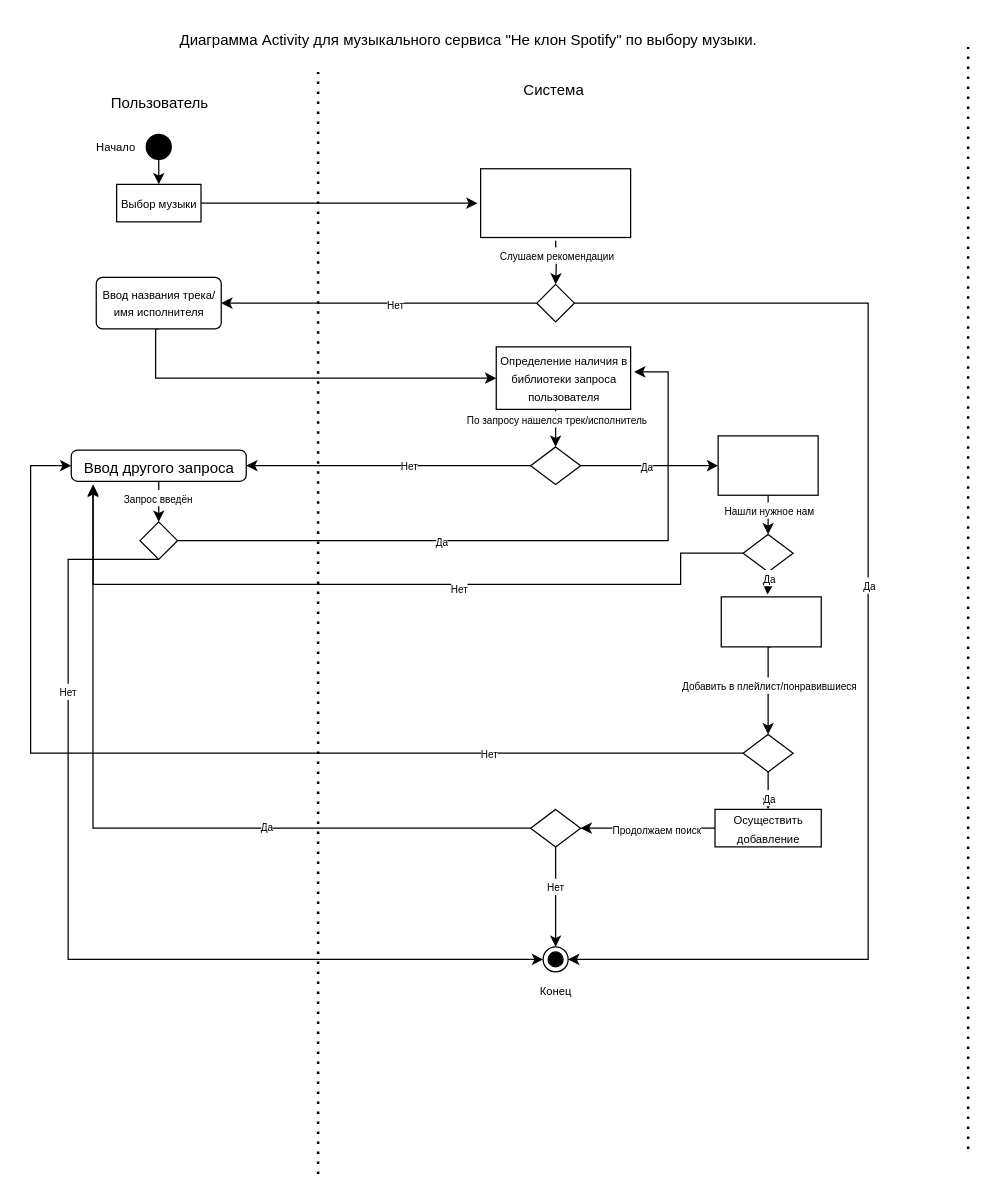
The diagram is 993 pixels wide and 1198 high, and some of its shapes have lost their labels. The centre of each missing label's shape, as x and y in pixels:
Вывод треков/исполнителей пользователю: [767,465]
Предоставление рекомендаций/ поиска по треку/артистам: [555,203]
Прослушать трек/выбрать испольнителя: [770,621]
